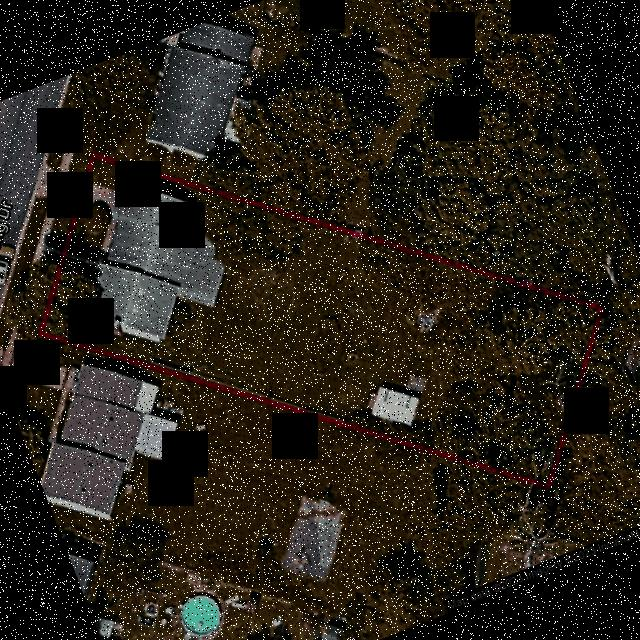Driveway: (80, 182, 121, 212)
Extra Driveway: (34, 162, 83, 203)
Extra Lawn: (0, 196, 49, 328), (20, 250, 60, 335), (46, 197, 75, 250), (66, 149, 91, 180), (46, 141, 64, 172)
Extra Sidewalk: (12, 196, 62, 331), (57, 145, 74, 176)
House: (82, 182, 226, 342)
Other: (367, 373, 427, 428)
Sidewalk: (65, 218, 116, 267), (99, 210, 115, 253)
